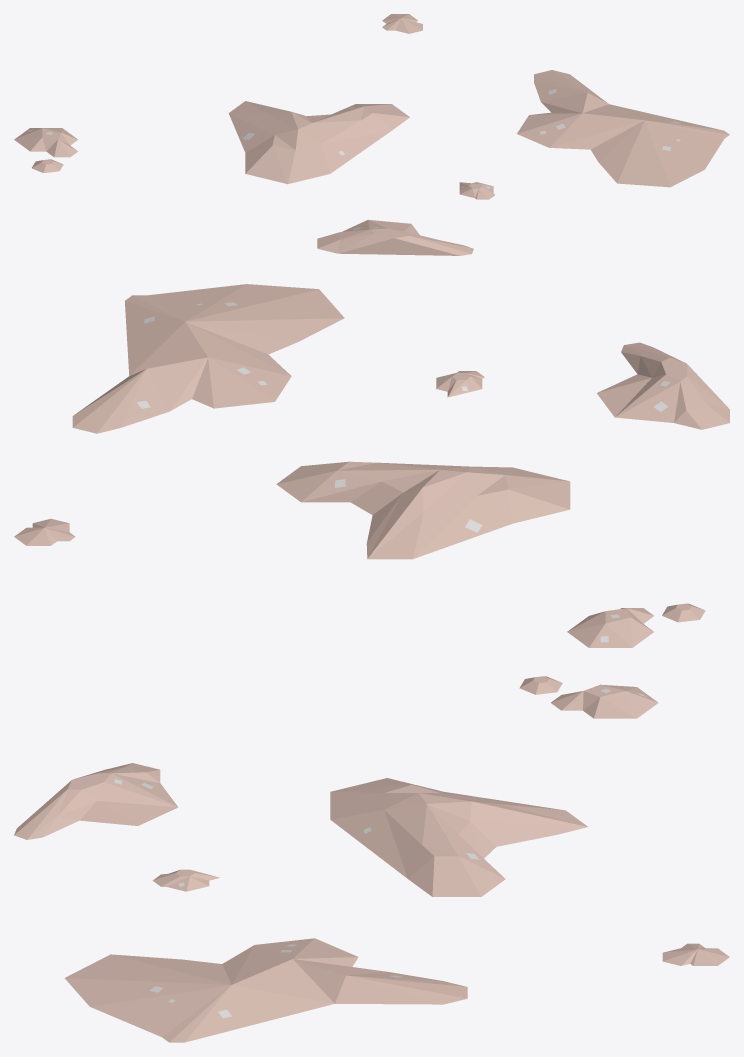
The model's file is DirtLumps.fbx.
The picture shows the model from 3 angles, top to bottom: view 1: azimuth 30°, elevation 25°; view 2: azimuth 150°, elevation 25°; view 3: azimuth 270°, elevation 25°; orthographic projection. The views are drawn at different scales.
Parts seen in each view (by area): view 1: DirtLumps; view 2: DirtLumps; view 3: DirtLumps.
Boxes of the visible parts, x1,y1,x2,y2 form: DirtLumps: [14, 14, 729, 255]; DirtLumps: [14, 284, 729, 647]; DirtLumps: [14, 676, 729, 1042].
Bounding box in the file's own units: 4.61 × 0.16 × 3.81.
